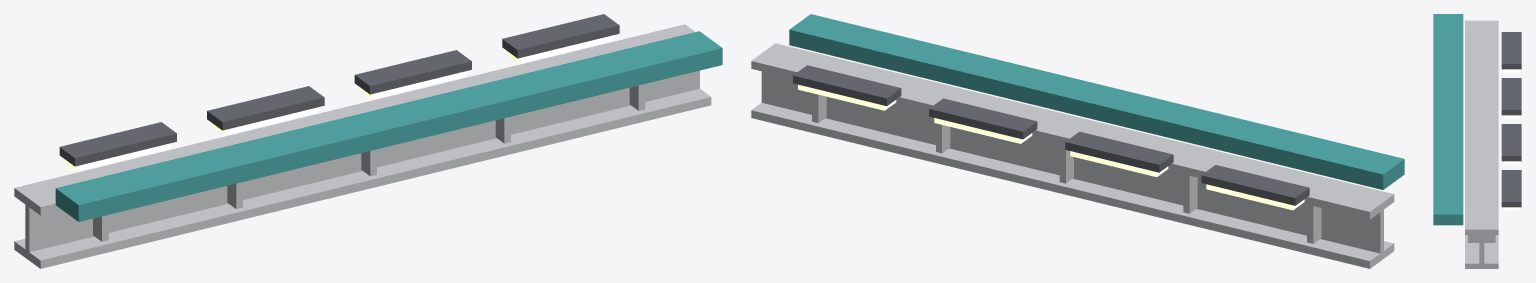
File: chocolate-and-confectionery-factory-ceiling-gantry-bea-b5a05dbf__36810.glb
The picture shows the model from 3 angles, left to right: view 1: azimuth 30°, elevation 25°; view 2: azimuth 150°, elevation 25°; view 3: azimuth 270°, elevation 25°; orthographic projection. The views are drawn at different scales.
Visible parts, largest first — view 1: ceiling-gantry-beam; view 2: ceiling-gantry-beam; view 3: ceiling-gantry-beam.
Part boxes in pixels (left/top/right/bottom): ceiling-gantry-beam: left=14, top=14, right=722, bottom=268; ceiling-gantry-beam: left=751, top=14, right=1404, bottom=268; ceiling-gantry-beam: left=1433, top=14, right=1521, bottom=268.
Bounding box in the file's own units: 5 × 0.5601 × 0.8899.
